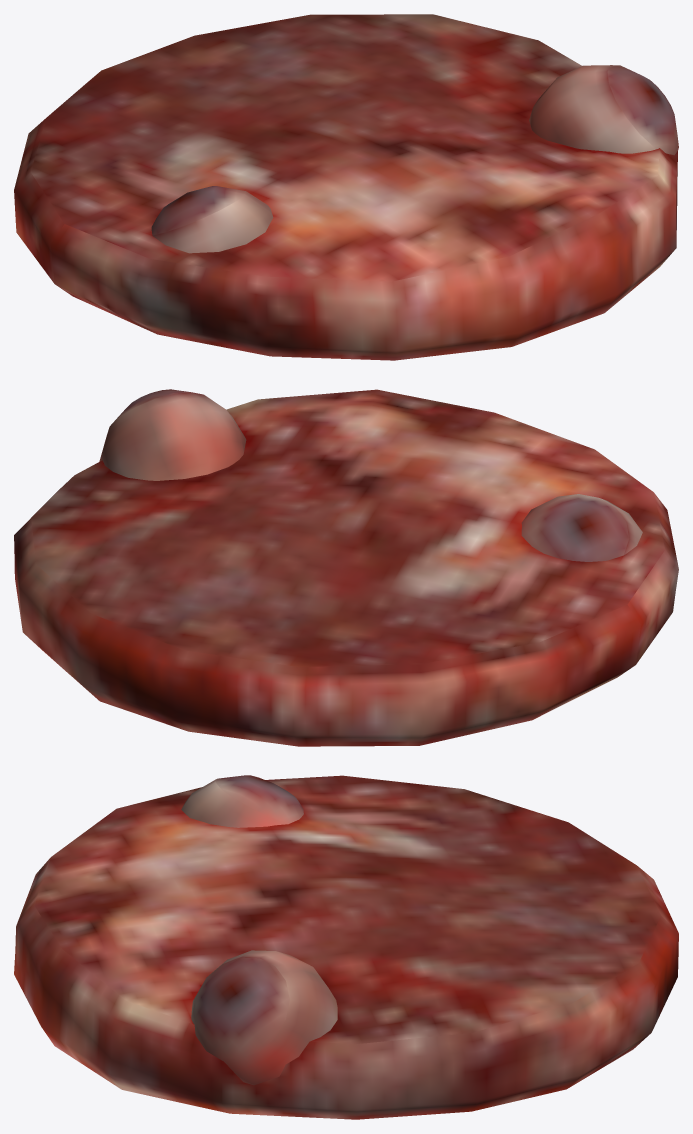
Rendered from human_cutlet.fbx.
3 views of the same model, one above another, from view 1: azimuth 30°, elevation 25°; view 2: azimuth 150°, elevation 25°; view 3: azimuth 270°, elevation 25° (orthographic).
Parts seen in each view (by area): view 1: human_cutlet; view 2: human_cutlet; view 3: human_cutlet.
Part boxes in pixels (<box>): human_cutlet: <box>14,14,678,360</box>; human_cutlet: <box>14,389,678,746</box>; human_cutlet: <box>14,775,678,1119</box>.
Size of the model in its own units: 11.66 by 3.04 by 11.6.
